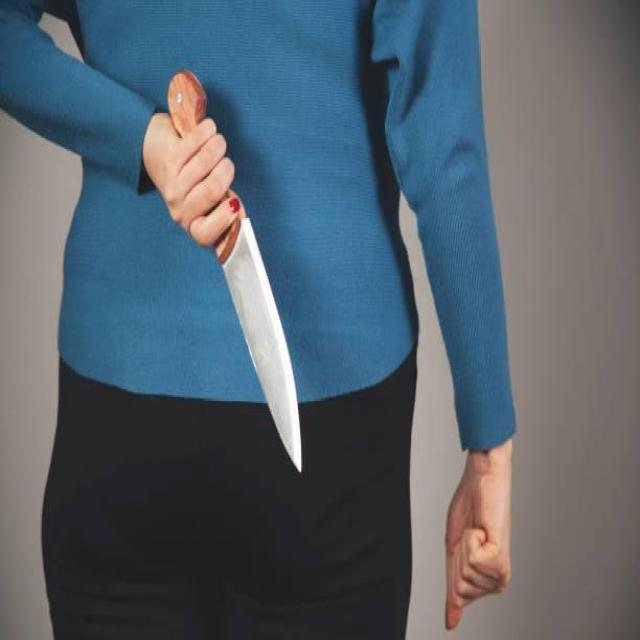faca: (156, 66, 308, 480)
